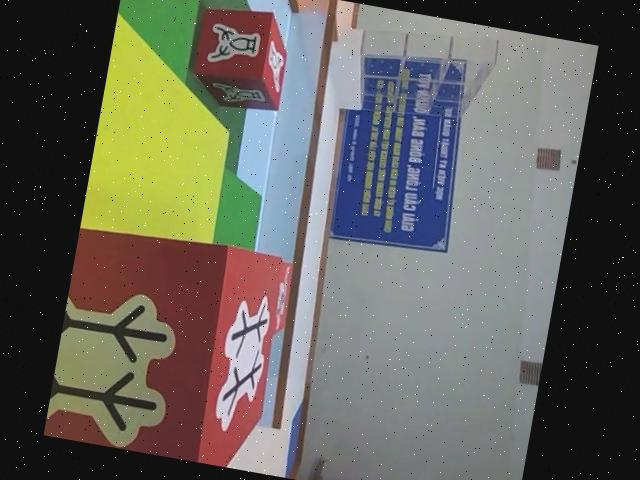R2 Real: (42, 215, 293, 472), (182, 0, 298, 115)
